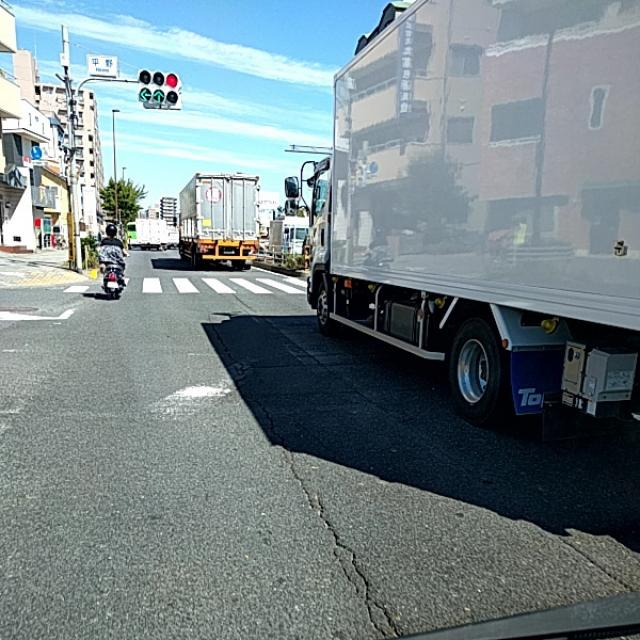pothole: (286, 456, 384, 616)
